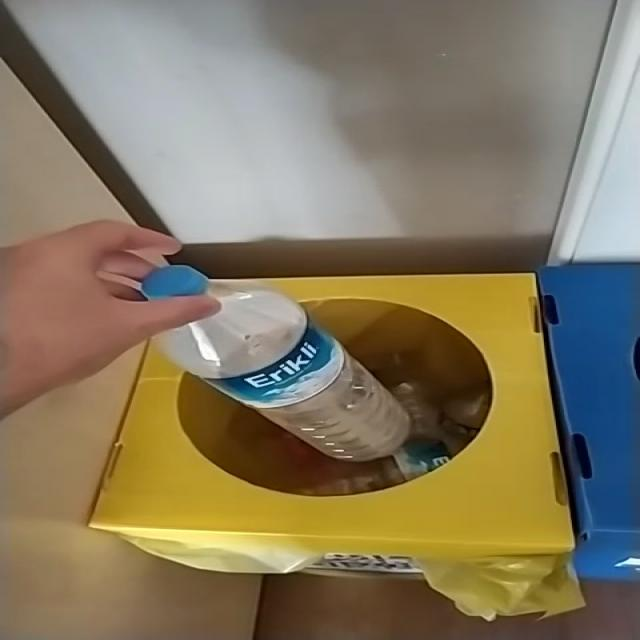plastic: (141, 265, 411, 462)
